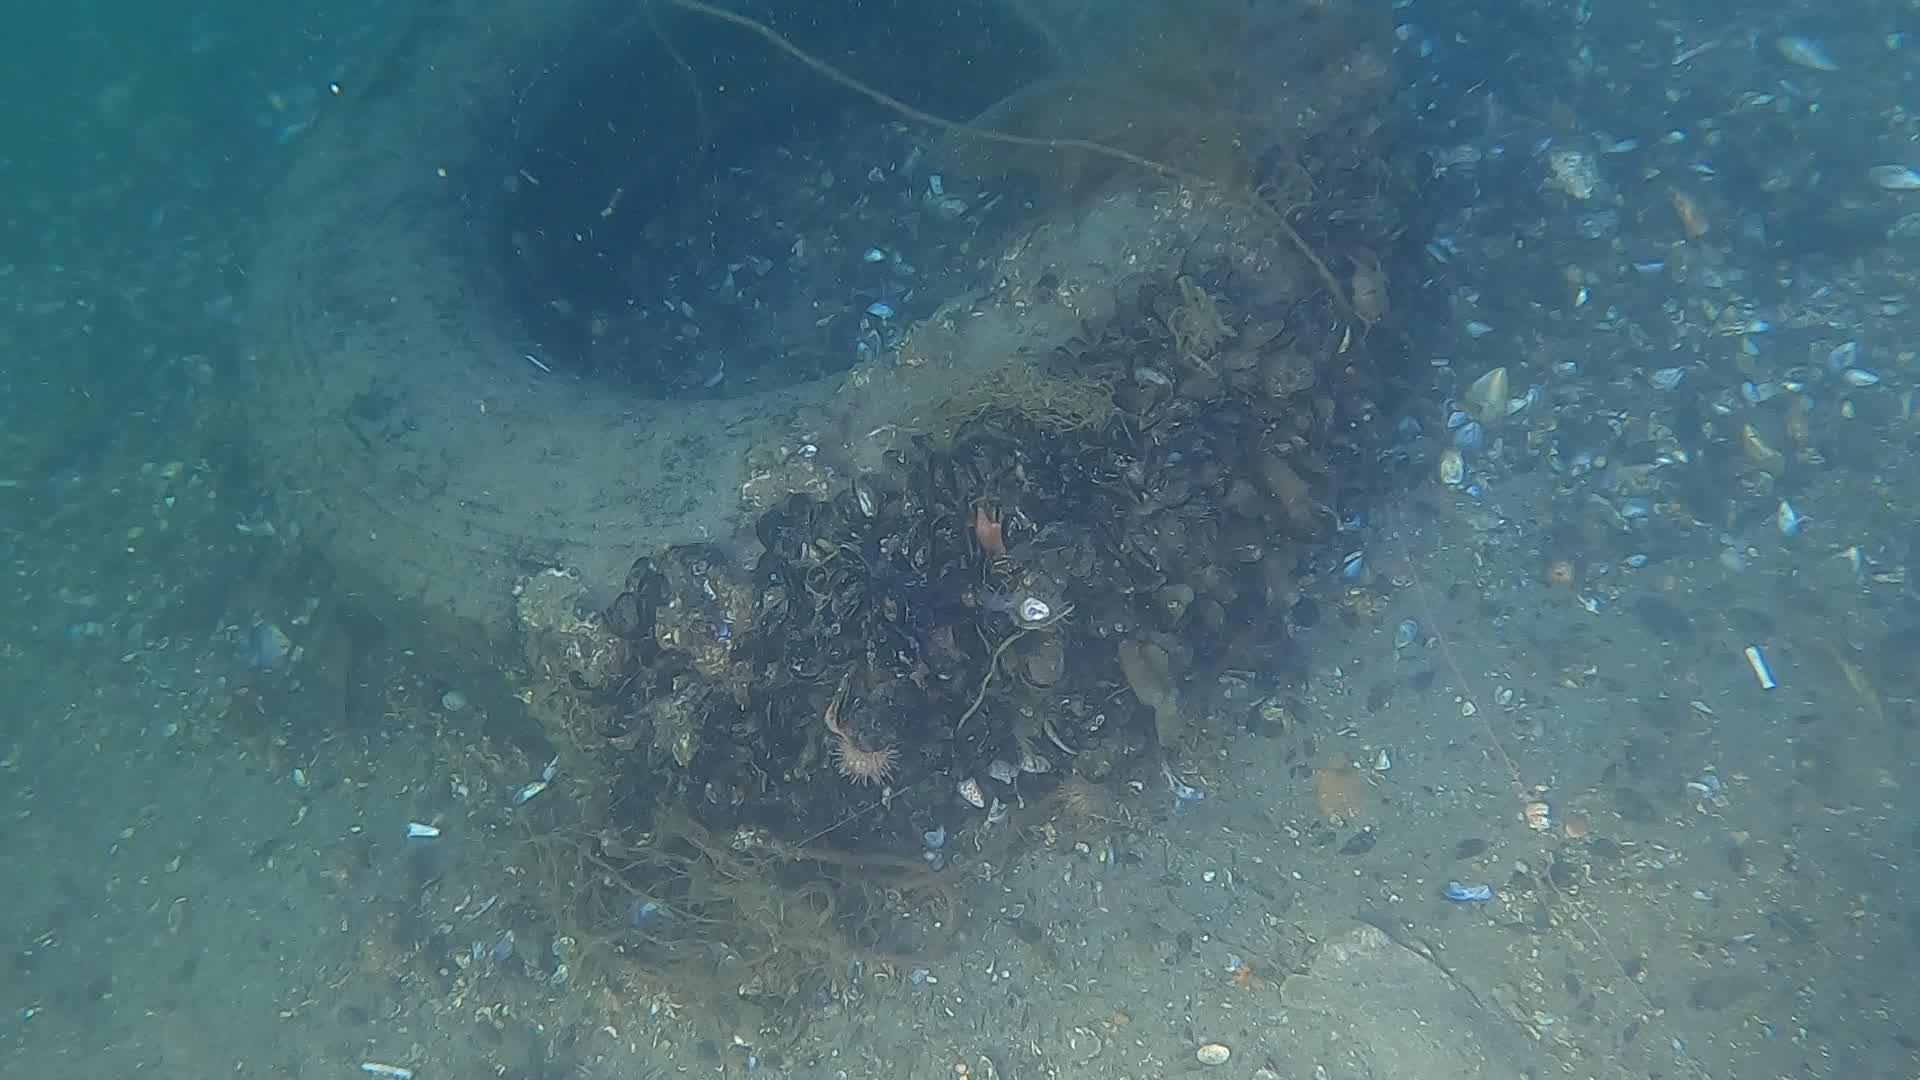tire: (239, 0, 1207, 711)
